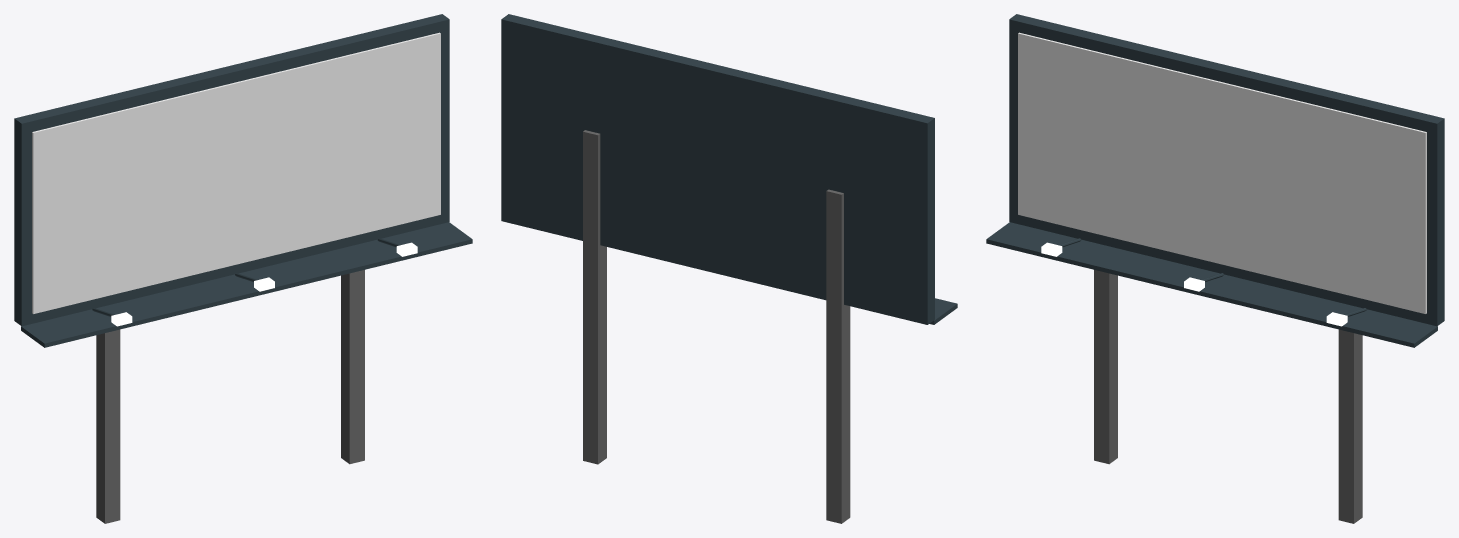
File: roadevents_billboard.glb
3 renders of one model, left to right at view 1: azimuth 30°, elevation 25°; view 2: azimuth 150°, elevation 25°; view 3: azimuth 330°, elevation 25°, orthographic.
Visible parts, largest first — view 1: Face.001, Billboard_frame; view 2: Billboard_frame; view 3: Face.001, Billboard_frame.
Part boxes in pixels (<box>): Face.001: <box>32,32,440,313</box>; Billboard_frame: <box>14,14,472,523</box>; Billboard_frame: <box>501,14,957,523</box>; Face.001: <box>1018,32,1426,313</box>; Billboard_frame: <box>986,14,1444,523</box>.
Bounding box in the file's own units: 8.4 × 7.9 × 1.4.
